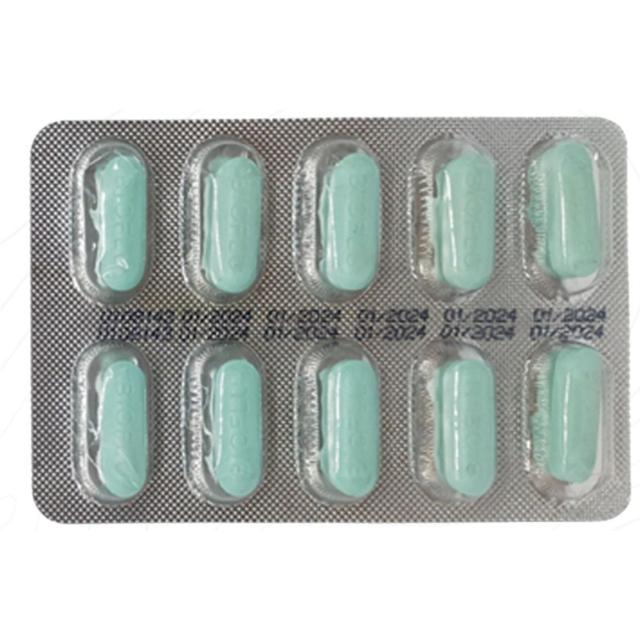blister: (28, 108, 631, 528)
